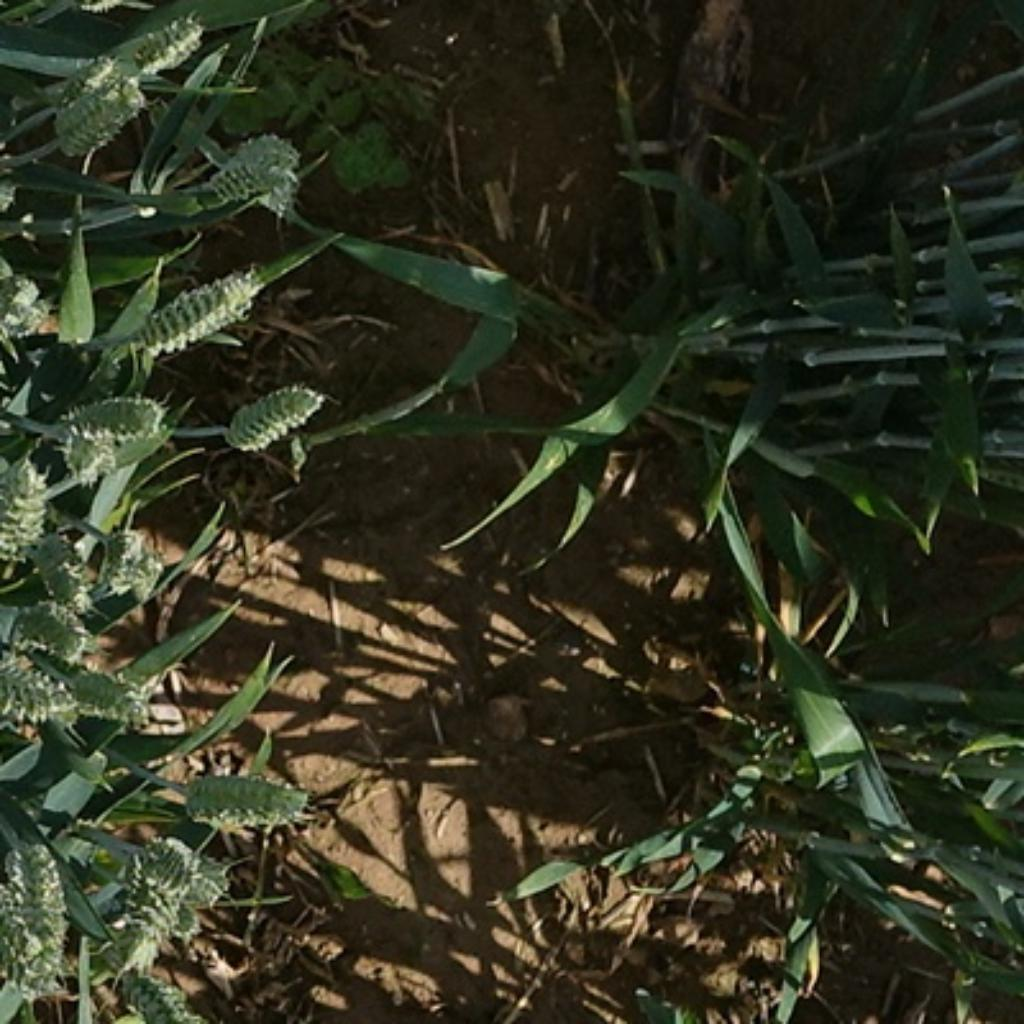0-0: (128, 261, 276, 350), (1, 842, 83, 965), (197, 122, 309, 212), (174, 760, 317, 829), (104, 872, 188, 981), (220, 371, 327, 455), (51, 386, 168, 453), (30, 517, 99, 622), (139, 835, 233, 909), (0, 642, 79, 729), (0, 889, 56, 1010), (117, 9, 209, 75), (94, 522, 166, 606), (58, 660, 148, 724), (0, 450, 53, 558), (56, 89, 143, 153), (0, 258, 51, 343), (51, 48, 120, 110), (117, 975, 204, 1024), (59, 442, 120, 500)
